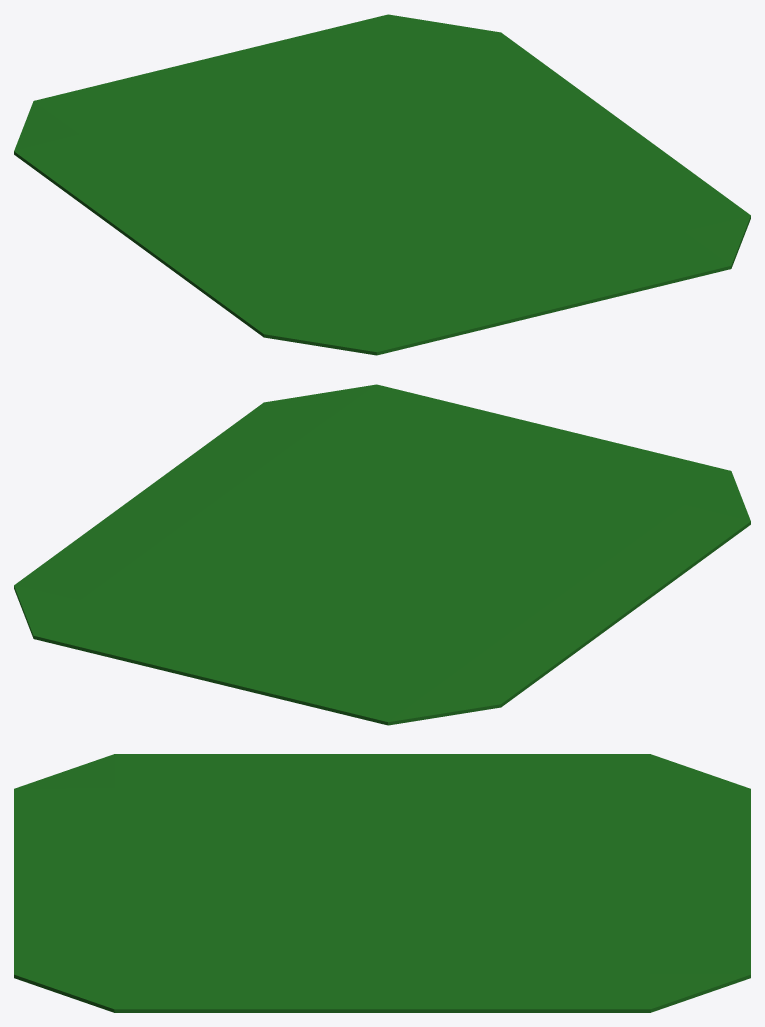
File: Grassv1.fbx
The picture shows the model from 3 angles, top to bottom: view 1: azimuth 30°, elevation 25°; view 2: azimuth 150°, elevation 25°; view 3: azimuth 270°, elevation 25°; orthographic projection. The views are drawn at different scales.
Parts seen in each view (by area): view 1: grass; view 2: grass; view 3: grass.
Boxes of the visible parts, x1,y1,x2,y2 form: grass: (14, 14, 750, 355); grass: (14, 384, 750, 725); grass: (14, 754, 750, 1012).
Size of the model in its own units: 773 by 6.91 by 943.
